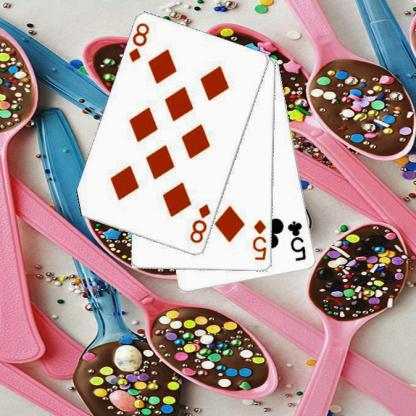5C: (286, 218, 308, 262)
5D: (250, 217, 268, 262)
8D: (187, 201, 212, 245), (126, 20, 151, 64)
